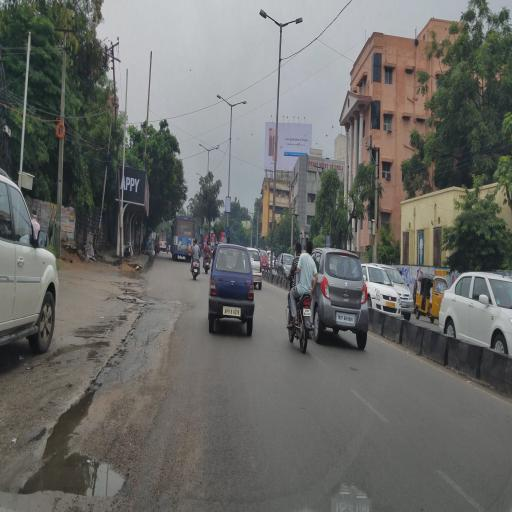street_light_0: (252, 6, 281, 29), (230, 92, 252, 120), (212, 91, 233, 119), (280, 12, 308, 32), (208, 136, 224, 157), (194, 134, 209, 155)
